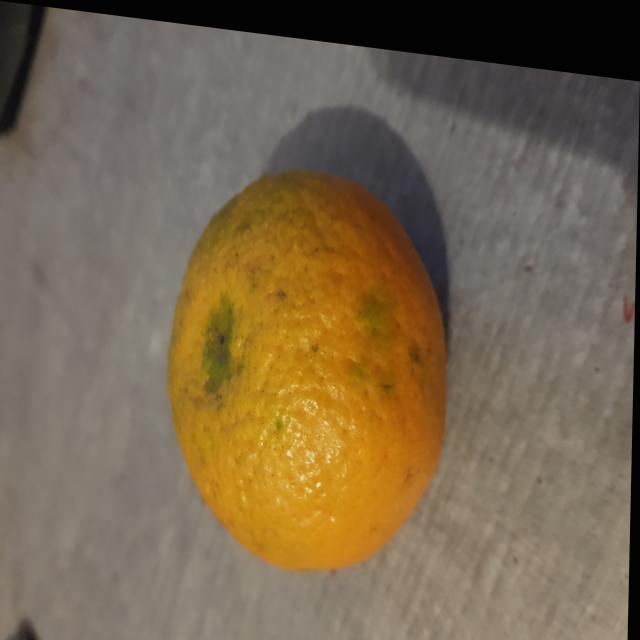Orange: (169, 159, 452, 565)
